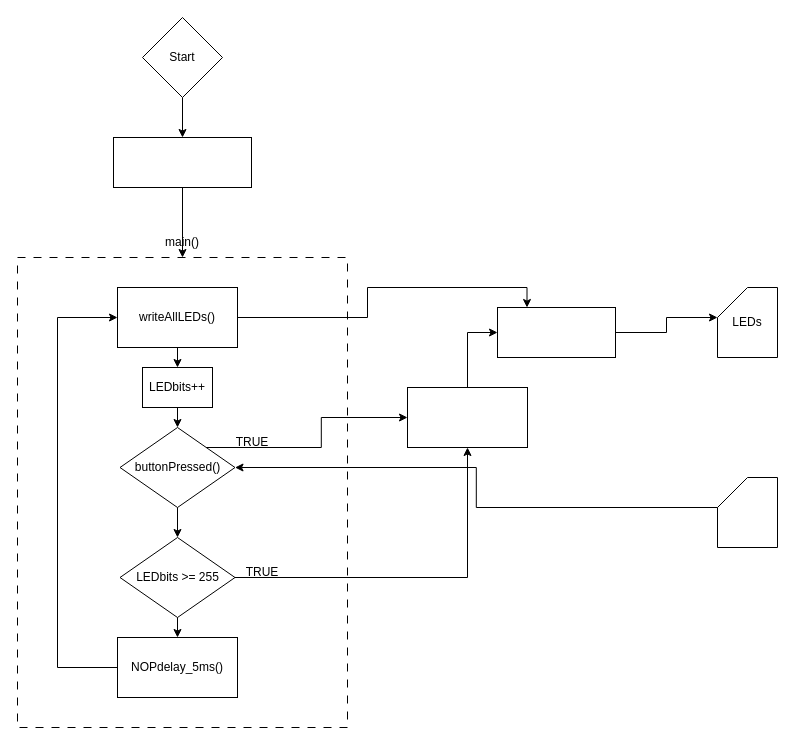
Image size: 795x745. Some labels were removed from this diagram. Each missing label, with the box of its shape:
Buttons: (716, 476, 778, 548)
Initialize LEDs, buttons, variables: (112, 136, 252, 188)
resetLEDs(): (406, 386, 528, 448)
writeLED(): (496, 306, 616, 358)
